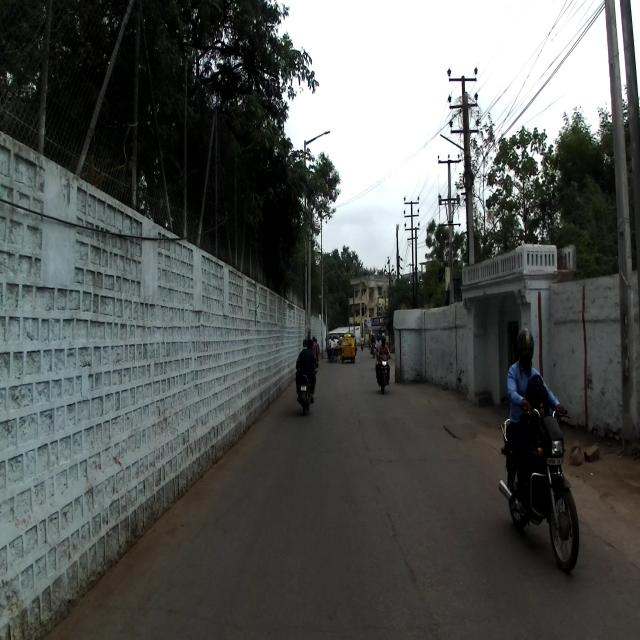motorcycle_Hero: (498, 405, 580, 572)
